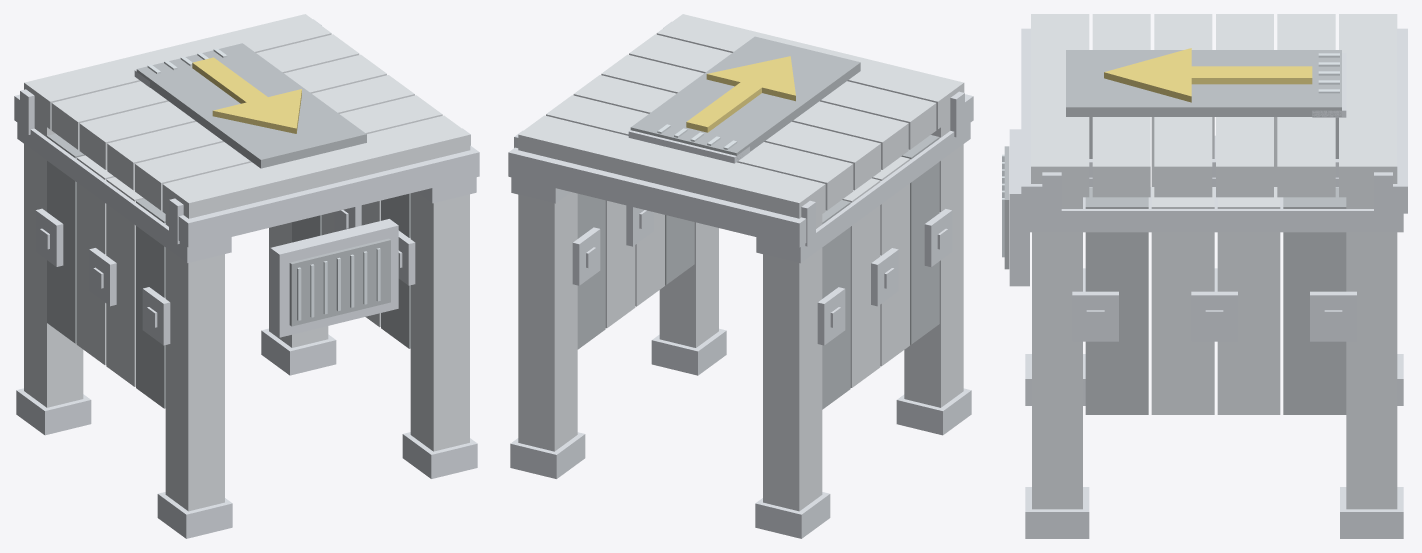
Rendered from filtered_tunnel.gltf.
The picture shows the model from 3 angles, left to right: view 1: azimuth 30°, elevation 25°; view 2: azimuth 150°, elevation 25°; view 3: azimuth 270°, elevation 25°; orthographic projection. The views are drawn at different scales.
Bounding box in the file's own units: 0.904 × 1.01 × 0.955.
